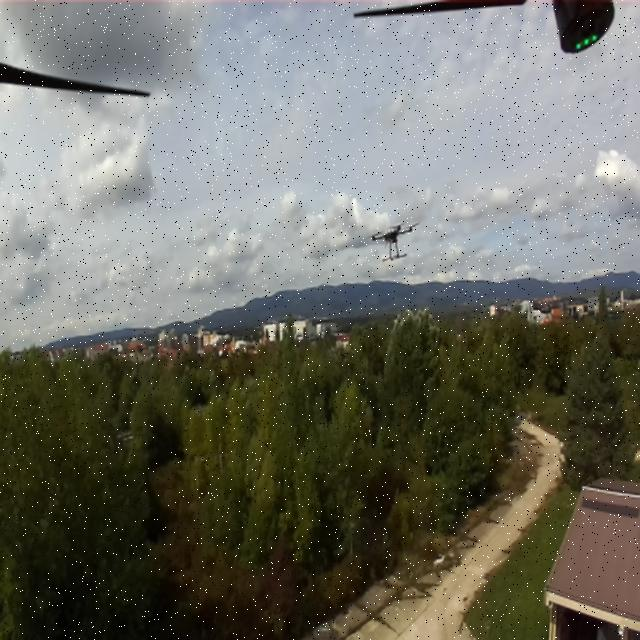UAV: (357, 210, 422, 269)
